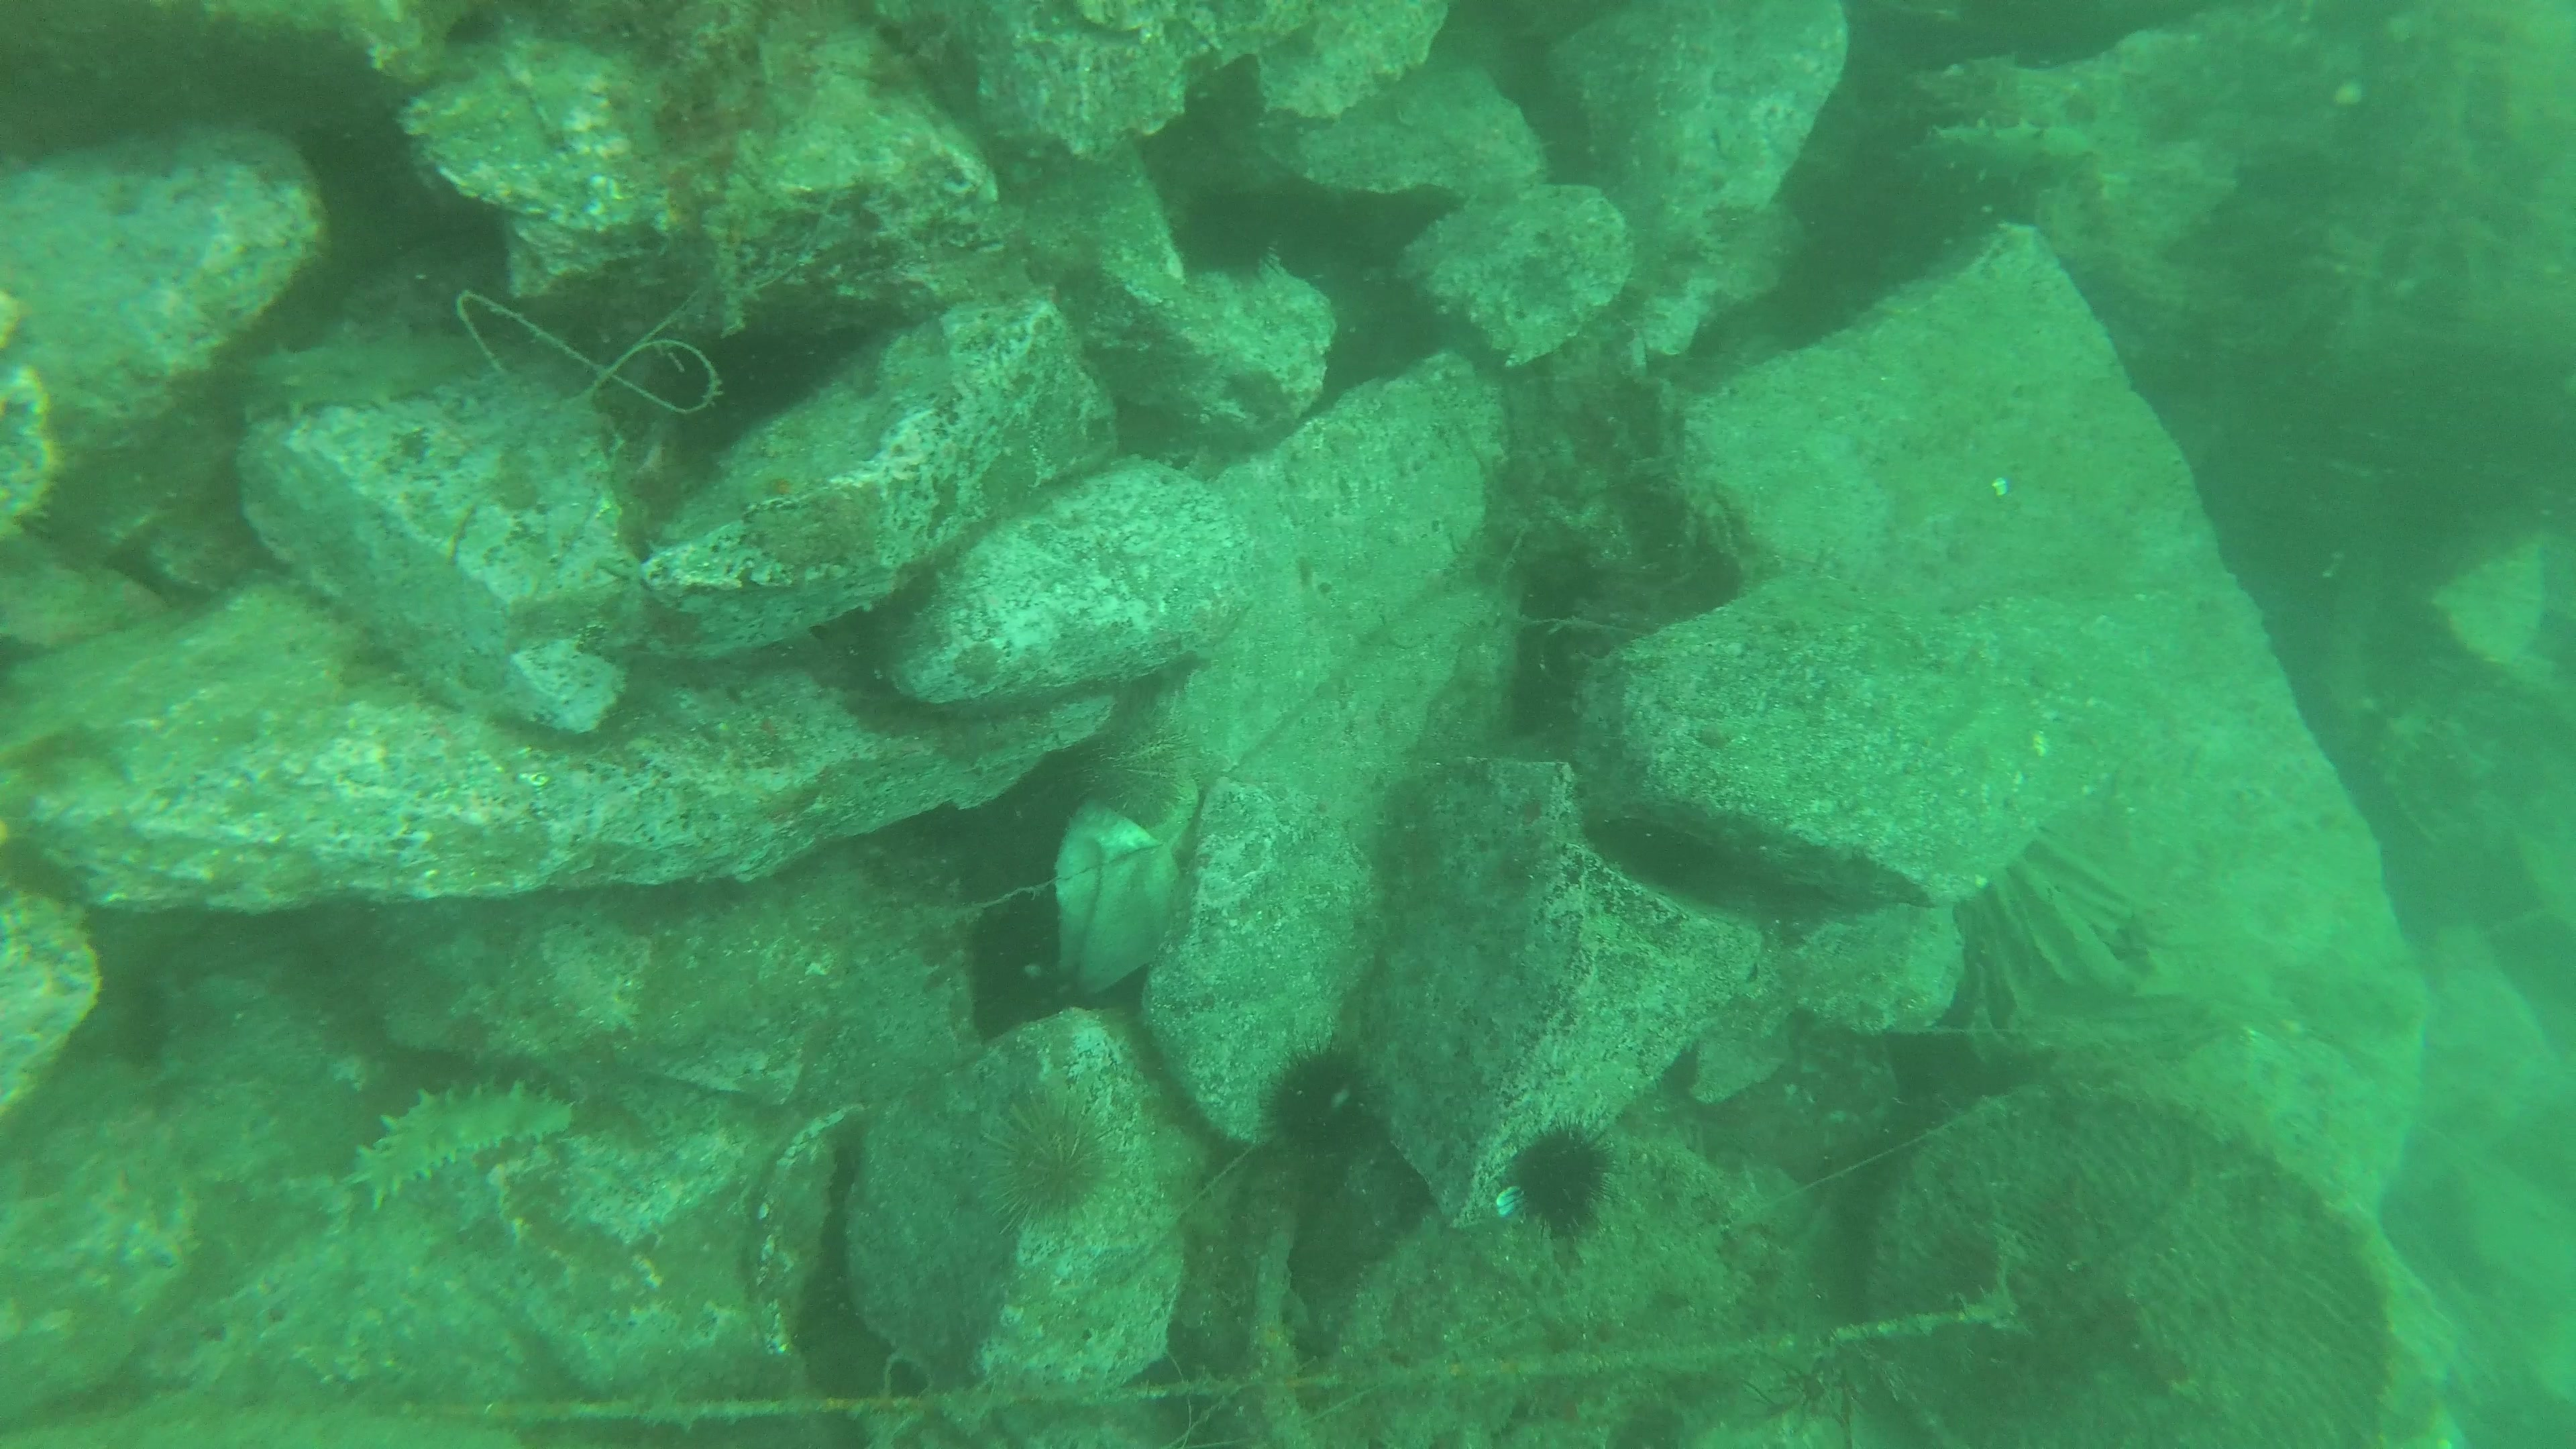echinus: (1253, 1044, 1384, 1166), (1497, 1122, 1615, 1253), (970, 897, 1070, 1033)
holothurian: (223, 317, 520, 425), (334, 1077, 579, 1205), (1898, 103, 2120, 202)
